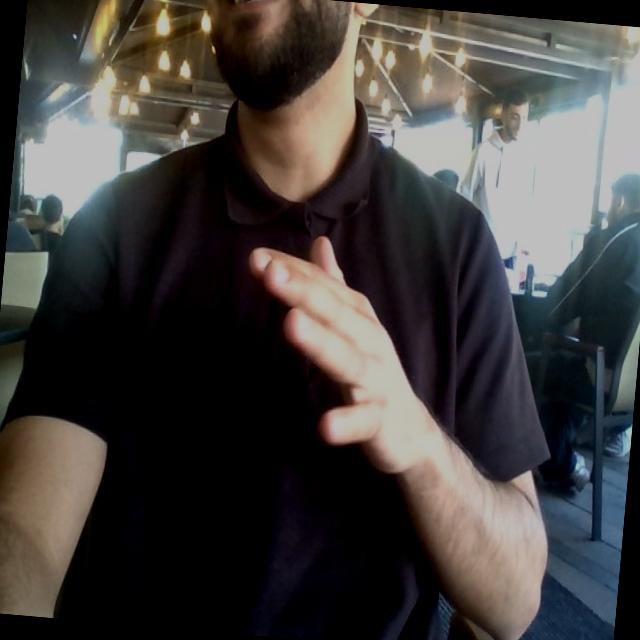Hand: (249, 238, 439, 473)
